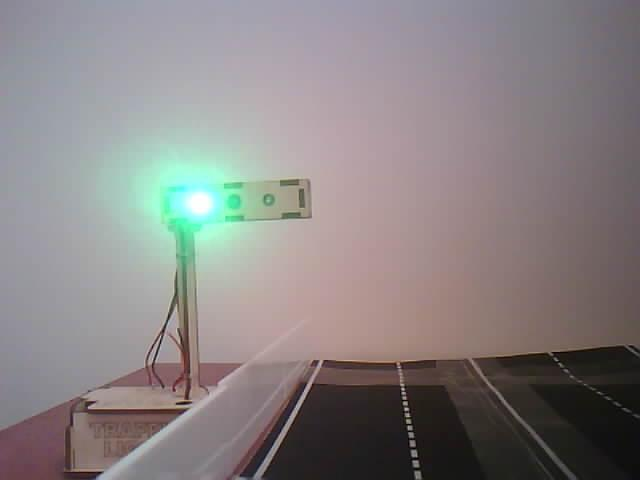green: (135, 161, 329, 342)
